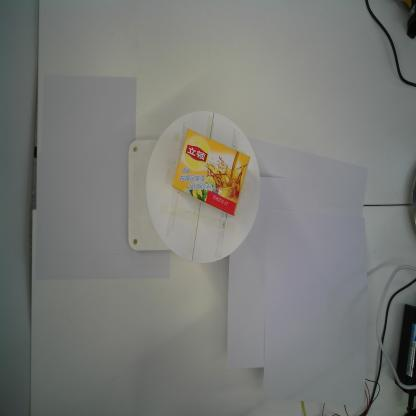Instant Drink: (171, 126, 252, 217)
